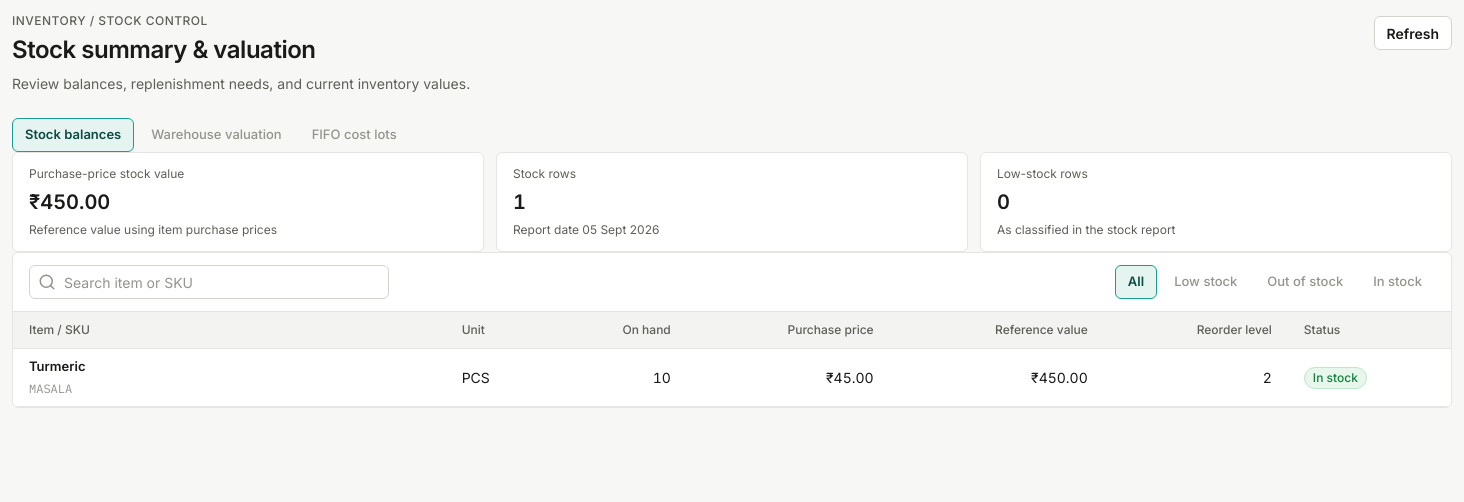
Stock valuation contracts and states › uses server currency and number column types and separate FIFO metrics
Expected: the text "Turmeric" is shown, [29, 358, 86, 374]
Click the tab "FIFO cost lots".
click(354, 135)  # box [299, 118, 410, 152]
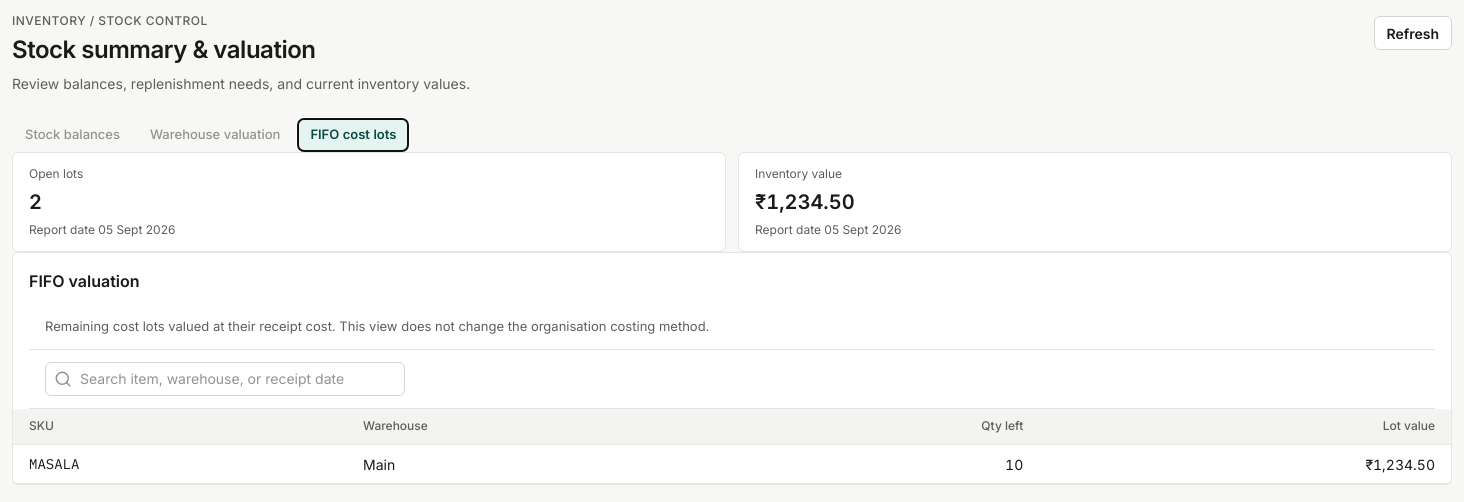
Expected: the text "10" is shown, [1005, 456, 1023, 473]
Now the text "₹1,234.50" in the row of "MASALA" is shown, box [1365, 456, 1435, 473]
Now the text "Purchase-price stock value" is gone
